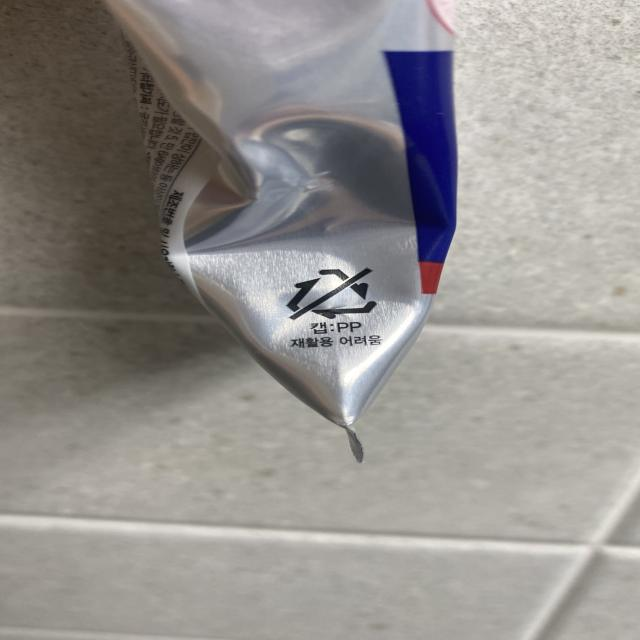NoRecycle: (274, 262, 398, 326)
